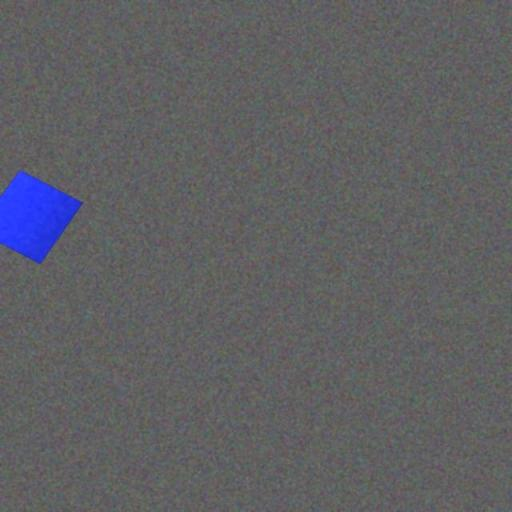BLUE_SQUARE: (0, 170, 83, 264)
